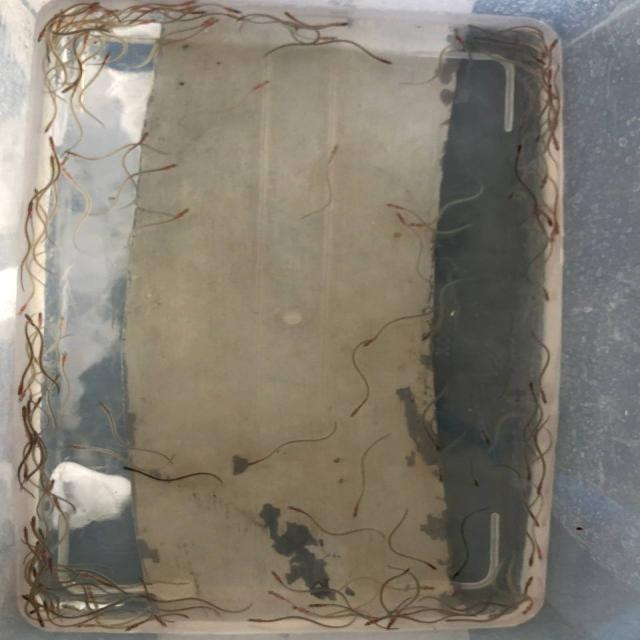glass_eel: (325, 142, 344, 161), (25, 198, 40, 217), (252, 78, 272, 92), (120, 462, 139, 476), (174, 206, 196, 218), (134, 130, 150, 146), (57, 164, 73, 180), (13, 302, 31, 316), (17, 312, 34, 326), (162, 160, 180, 173), (266, 588, 285, 600), (33, 392, 47, 408), (94, 398, 110, 412), (278, 10, 300, 20), (382, 201, 404, 211), (15, 380, 27, 398), (201, 17, 222, 27), (31, 186, 46, 200), (20, 403, 34, 418), (46, 136, 59, 152), (28, 512, 41, 528), (408, 220, 431, 229), (550, 221, 562, 238), (64, 442, 86, 451), (39, 122, 53, 136), (29, 566, 44, 579), (34, 310, 46, 326), (420, 330, 436, 342), (74, 569, 93, 579), (144, 16, 161, 27), (36, 30, 49, 44), (102, 50, 115, 64), (520, 602, 533, 616), (348, 406, 362, 419), (536, 178, 549, 192), (57, 152, 75, 162), (63, 149, 83, 158), (56, 312, 66, 330), (59, 602, 74, 614), (284, 504, 302, 514), (222, 6, 244, 14), (362, 616, 378, 627), (47, 153, 60, 166), (20, 467, 33, 480), (516, 117, 529, 130), (363, 337, 377, 349), (393, 210, 405, 224), (514, 142, 526, 156), (532, 131, 546, 143), (59, 349, 70, 364), (59, 84, 75, 94), (180, 0, 200, 8), (320, 34, 340, 42), (45, 476, 57, 489), (384, 618, 397, 630), (448, 572, 462, 583), (531, 516, 542, 530), (122, 624, 139, 633), (243, 459, 258, 469), (305, 602, 326, 609), (189, 9, 207, 17), (376, 58, 394, 66), (49, 493, 61, 505), (19, 593, 35, 602), (349, 506, 361, 518), (524, 274, 536, 286), (270, 568, 281, 581), (431, 440, 444, 451), (533, 485, 546, 496), (52, 371, 62, 385), (245, 616, 262, 624), (334, 20, 349, 29), (434, 472, 446, 483), (526, 382, 539, 392), (535, 57, 548, 67), (290, 605, 306, 613), (34, 526, 45, 537), (535, 550, 546, 561), (471, 478, 482, 489), (22, 526, 32, 538), (26, 606, 38, 616), (158, 618, 170, 628), (425, 563, 440, 571), (525, 575, 535, 587), (481, 435, 493, 445), (551, 139, 561, 151), (507, 191, 519, 201), (540, 291, 550, 303), (450, 29, 462, 39), (418, 585, 435, 592), (76, 621, 89, 630), (525, 470, 534, 483), (246, 460, 262, 467), (466, 23, 482, 30), (36, 618, 46, 629), (545, 215, 554, 227), (540, 392, 548, 405), (84, 582, 94, 592), (31, 539, 42, 548), (88, 0, 100, 8), (109, 8, 124, 14), (545, 68, 554, 78), (550, 37, 560, 46), (526, 557, 534, 568), (544, 83, 554, 90)
